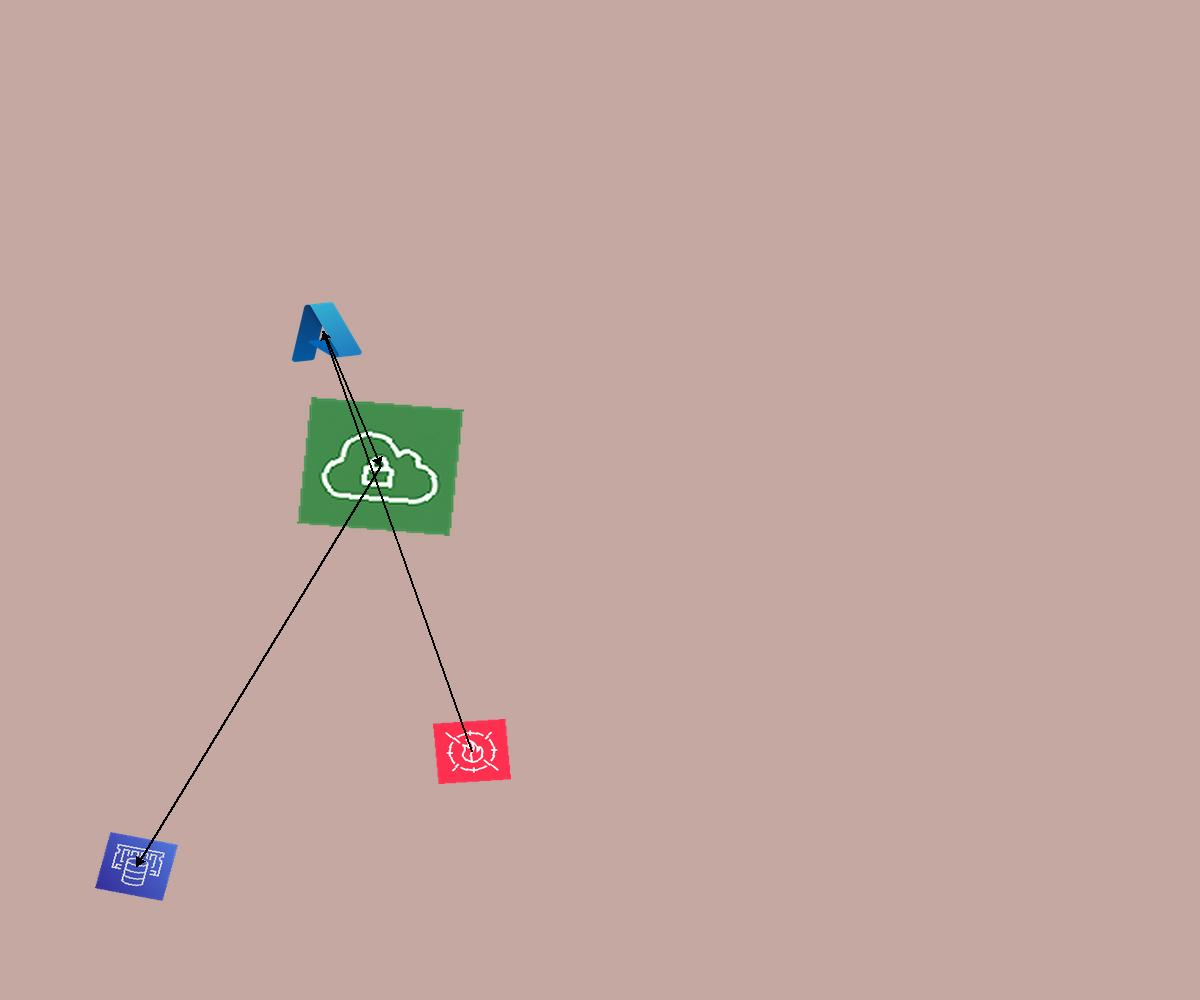AWS-ElastiCache: (95, 832, 178, 901)
AWS-Private_vpc: (297, 397, 464, 536)
AWS-WAF: (433, 719, 511, 784)
Azure_services: (280, 295, 366, 367)
